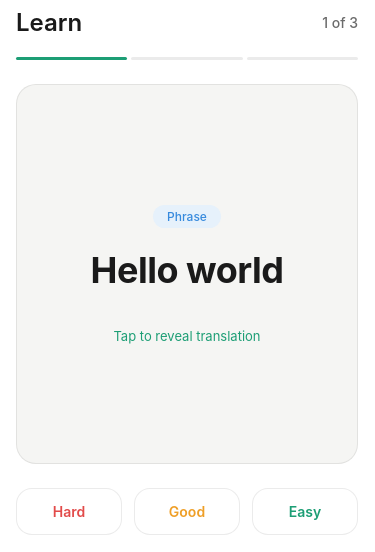
Scenario: LearnScreen — card flip › reveals translation when card is tapped
Click the text "Hello world".
click(187, 270)  # box x1=91 y1=248 x2=283 y2=292
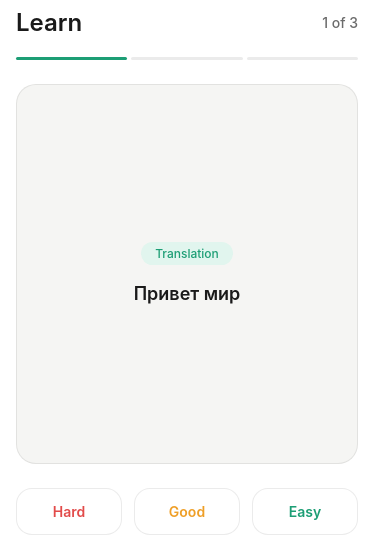
Result: the text "Привет мир" is shown at x1=134 y1=280 x2=240 y2=306
